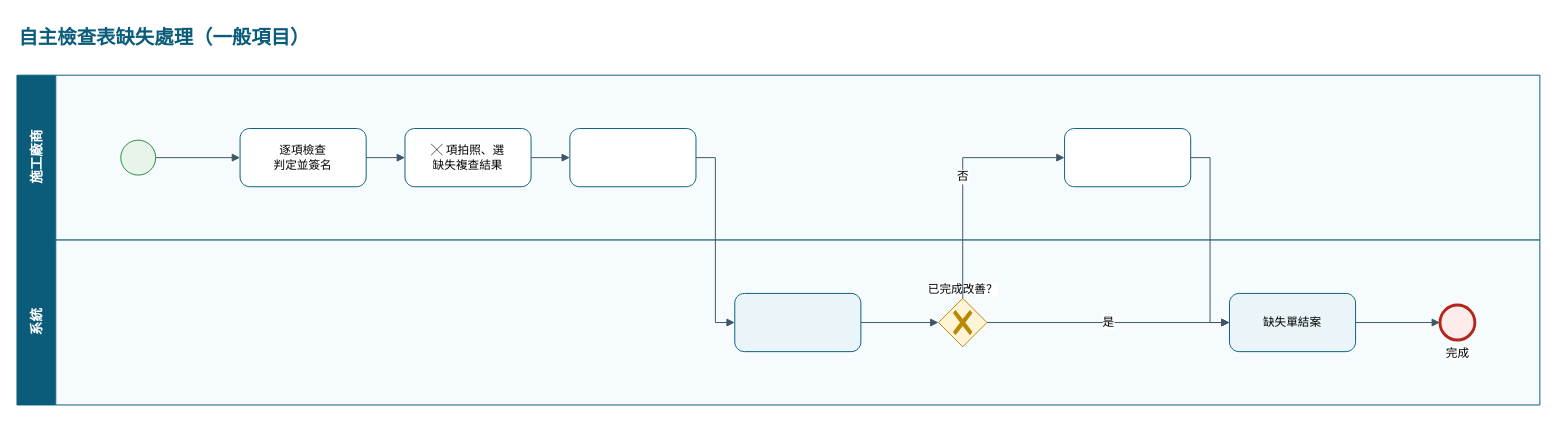
Image size: 1557x422. Some labels were removed from this diagram. The box of each missing label's shape, as (x1, y1, x2, y2) in pixels:
回報改善完成 說明＋照片: (1064, 128, 1191, 187)
現場工程師、 授權代表簽認: (569, 128, 696, 187)
表單鎖定 ╳ 項建缺失單: (734, 292, 861, 352)
